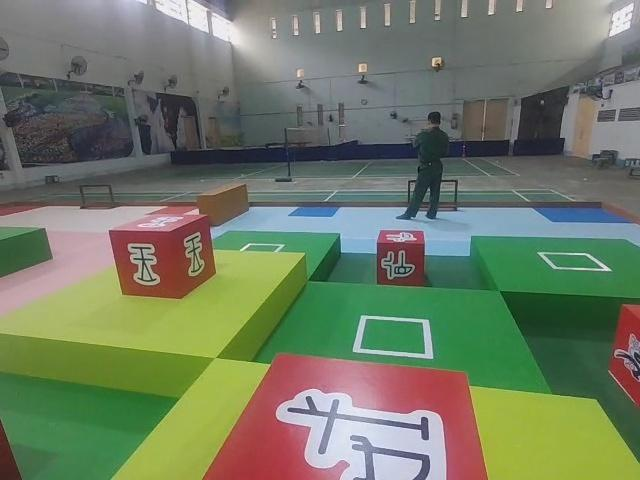R2 Real: (207, 356, 491, 480), (105, 209, 221, 297), (377, 228, 425, 287)
